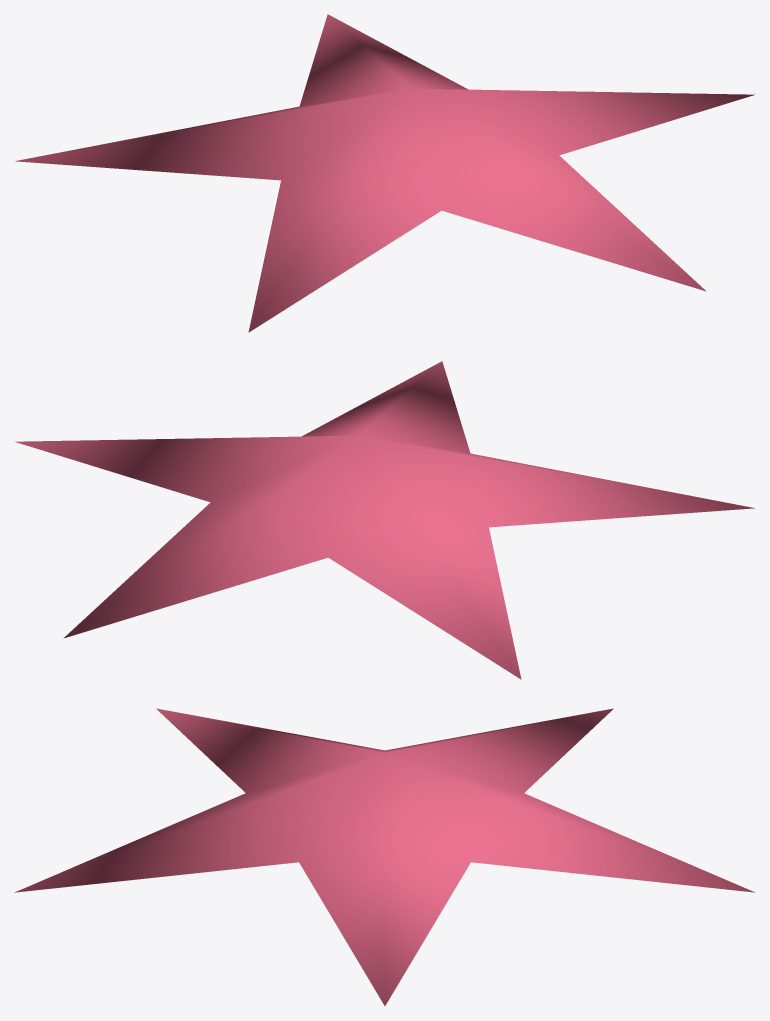
The model's file is Starfish_Pink.fbx.
3 views of the same model, one above another, from view 1: azimuth 30°, elevation 25°; view 2: azimuth 150°, elevation 25°; view 3: azimuth 270°, elevation 25° (orthographic). The views are drawn at different scales.
Visible parts, largest first — view 1: Starfish_Pink.001; view 2: Starfish_Pink.001; view 3: Starfish_Pink.001.
Part boxes in pixels (left/top/right/bottom): Starfish_Pink.001: left=15, top=14, right=754, bottom=332; Starfish_Pink.001: left=15, top=361, right=754, bottom=679; Starfish_Pink.001: left=14, top=708, right=755, bottom=1005.
Size of the model in its own units: 0.2171 by 0.03 by 0.2283.
